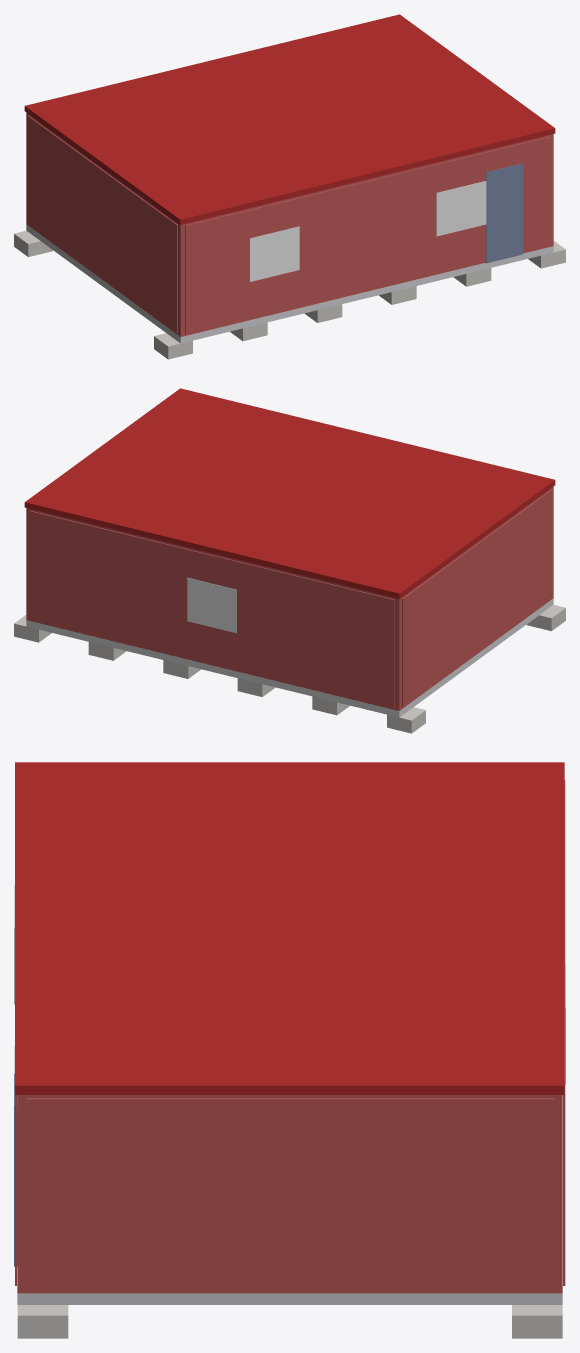
Rendered from Studio-30-Base-CrimsonRed-LOD3.glb.
The picture shows the model from 3 angles, top to bottom: view 1: azimuth 30°, elevation 25°; view 2: azimuth 150°, elevation 25°; view 3: azimuth 270°, elevation 25°; orthographic projection. The views are drawn at different scales.
Visible parts, largest first — view 1: RoofMain, ExteriorPanelsStandard, WindowsStandard, BaseFrame, FoundationBlocks, ExteriorShell, EntryDoor; view 2: RoofMain, ExteriorPanelsStandard, BaseFrame, ExteriorShell, FoundationBlocks, WindowsStandard; view 3: RoofMain, ExteriorPanelsStandard, ExteriorShell, BaseFrame, FoundationBlocks.
Boxes of the visible parts, x1=… form: RoofMain: x1=24, y1=14, x2=555, y2=224; ExteriorPanelsStandard: x1=27, y1=115, x2=549, y2=334; WindowsStandard: x1=249, y1=181, x2=486, y2=281; BaseFrame: x1=26, y1=224, x2=553, y2=343; FoundationBlocks: x1=14, y1=230, x2=565, y2=359; ExteriorShell: x1=26, y1=112, x2=553, y2=336; EntryDoor: x1=485, y1=163, x2=523, y2=263; RoofMain: x1=24, y1=388, x2=555, y2=598; ExteriorPanelsStandard: x1=30, y1=489, x2=552, y2=708; BaseFrame: x1=26, y1=598, x2=553, y2=717; ExteriorShell: x1=26, y1=486, x2=553, y2=710; FoundationBlocks: x1=14, y1=604, x2=565, y2=733; WindowsStandard: x1=187, y1=577, x2=236, y2=633; RoofMain: x1=15, y1=762, x2=564, y2=1094; ExteriorPanelsStandard: x1=15, y1=780, x2=565, y2=1290; ExteriorShell: x1=17, y1=1095, x2=562, y2=1293; BaseFrame: x1=17, y1=1293, x2=562, y2=1304; FoundationBlocks: x1=17, y1=1305, x2=562, y2=1338.
Bounding box in the file's own units: 9.6 × 3.17 × 6.53.
